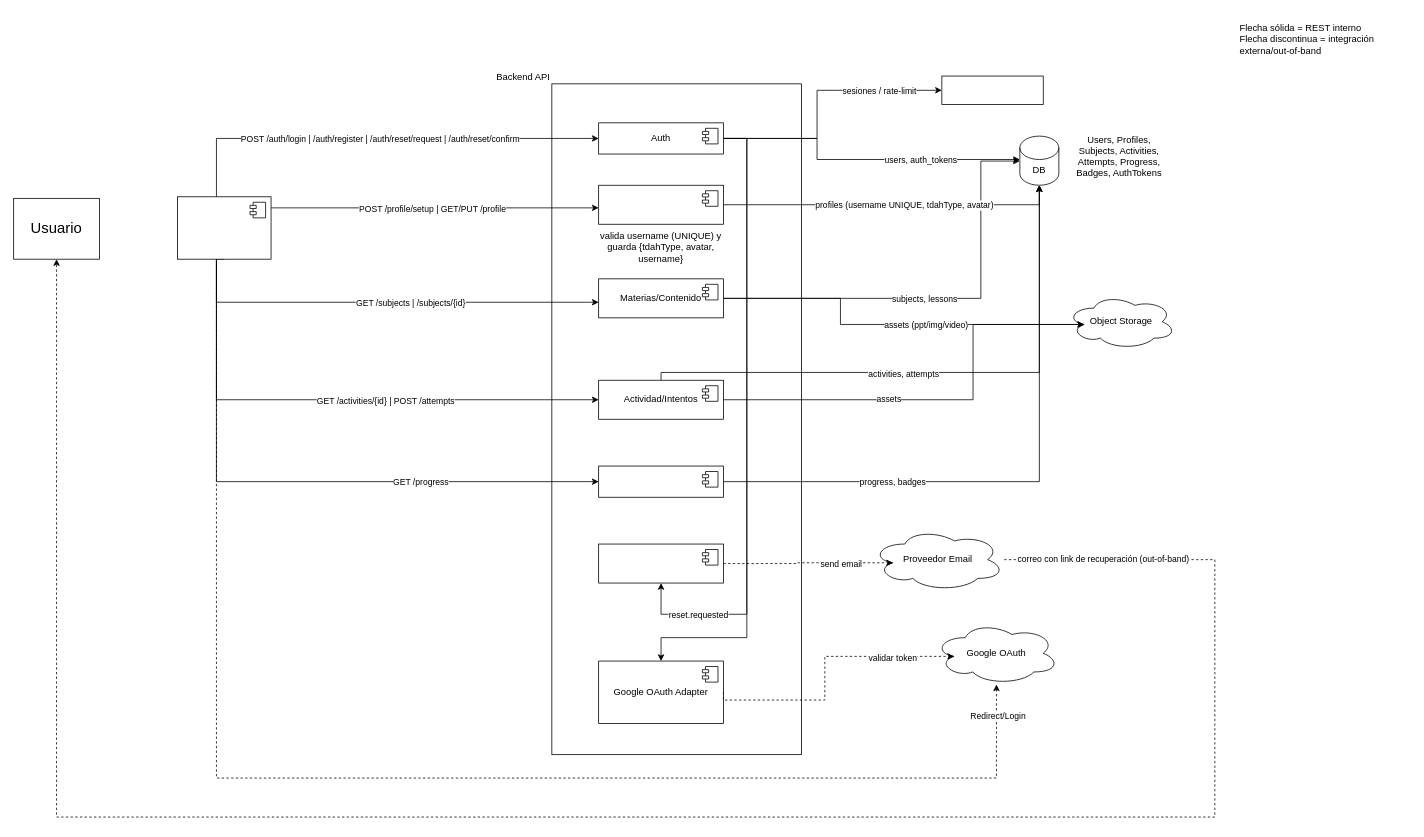
The diagram is 1424 pixels wide and 837 high, and some of its shapes have lost their labels. Here are the shapes that lost their labels. From the top down, the centre of each, then its label:
the point at 992,90: Cache (Redis)
the point at 660,204: Perfil
the point at 224,227: Web Frontend
the point at 660,481: Progreso/XP
the point at 660,563: Email Adapter
